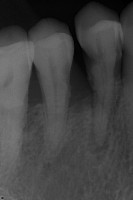Furcation Involvement: (87, 124, 110, 164)
